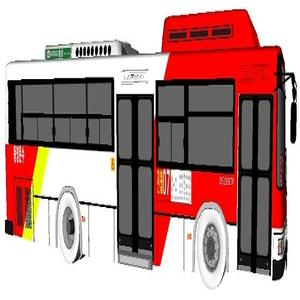07bus: (5, 21, 291, 282)
backdoor: (109, 70, 162, 268)
frontdoor: (216, 49, 280, 285)
